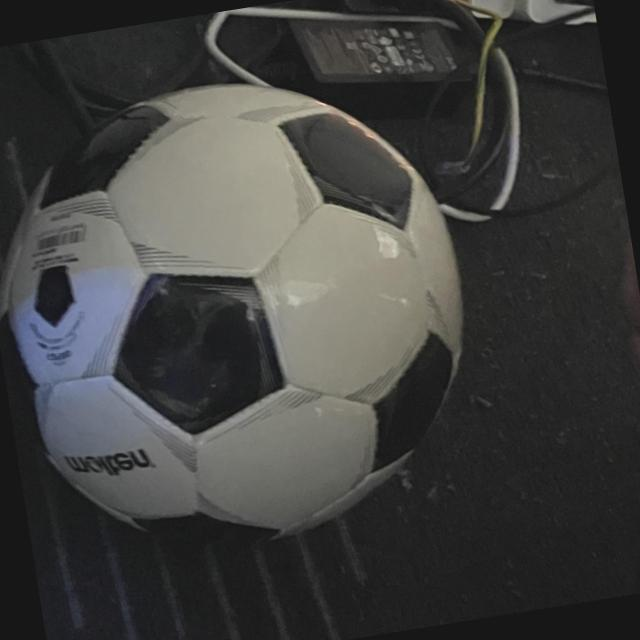Soccer Ball: (0, 48, 498, 583)
